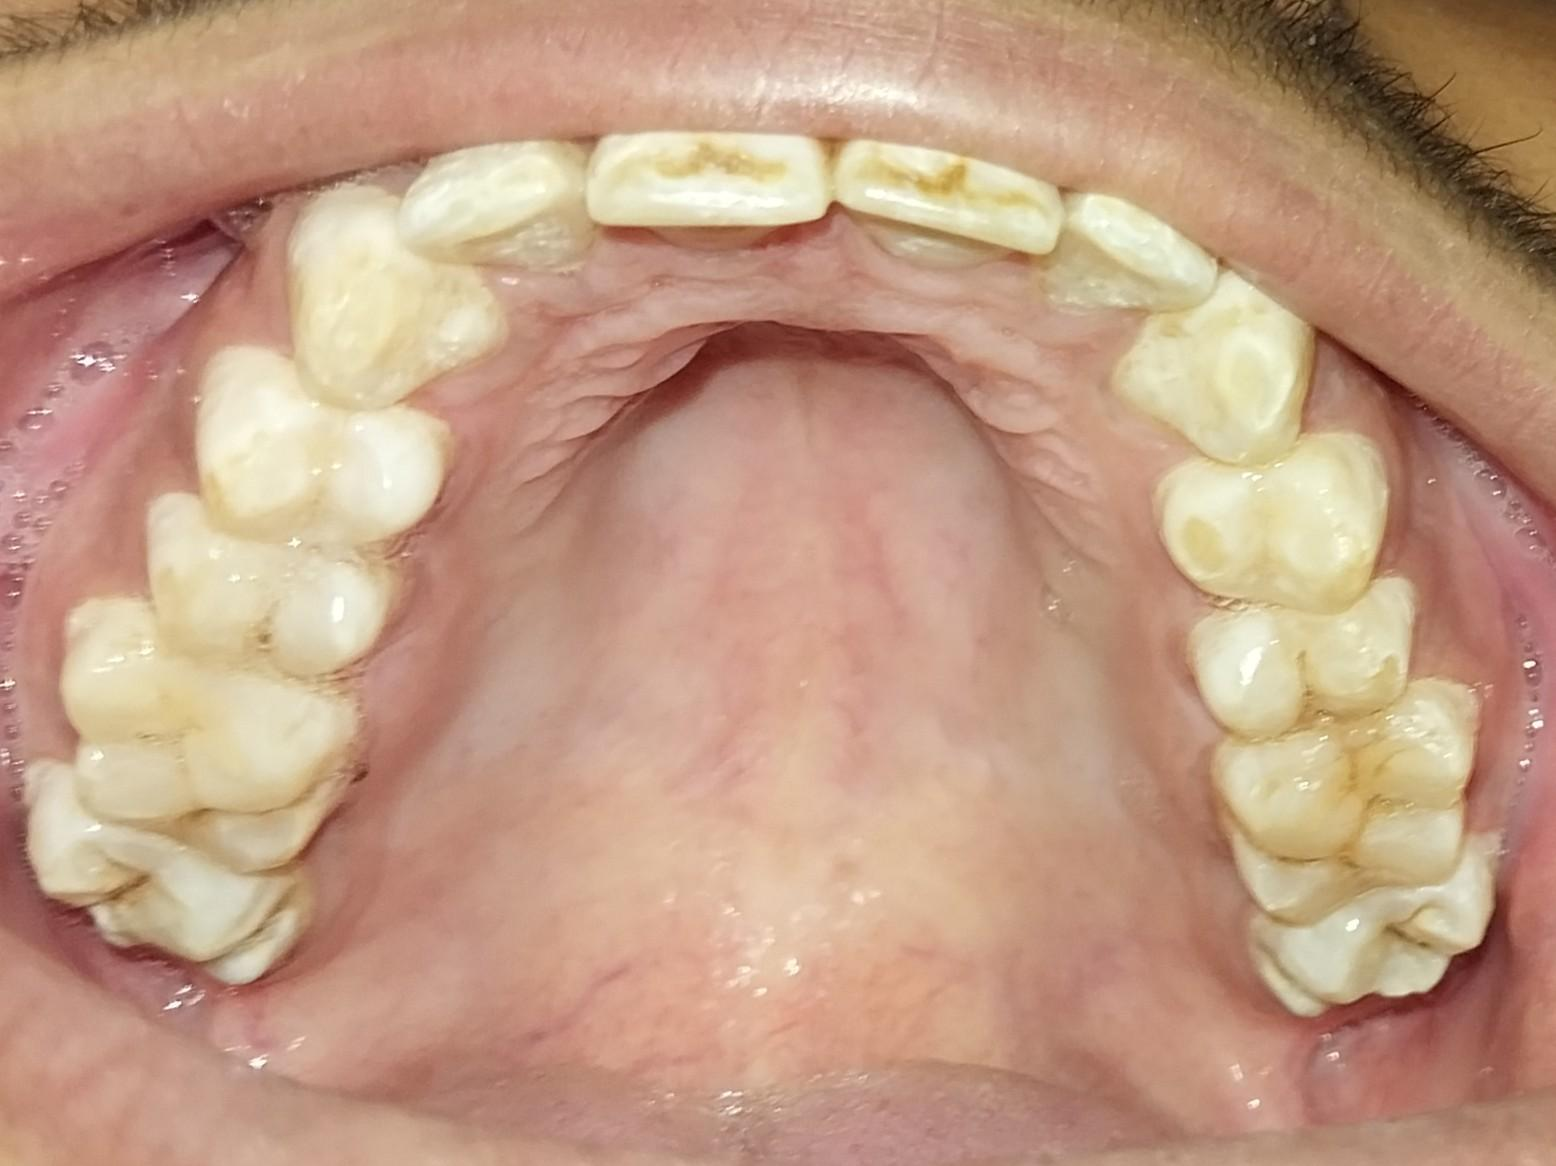D: (1247, 844, 1492, 1018)
